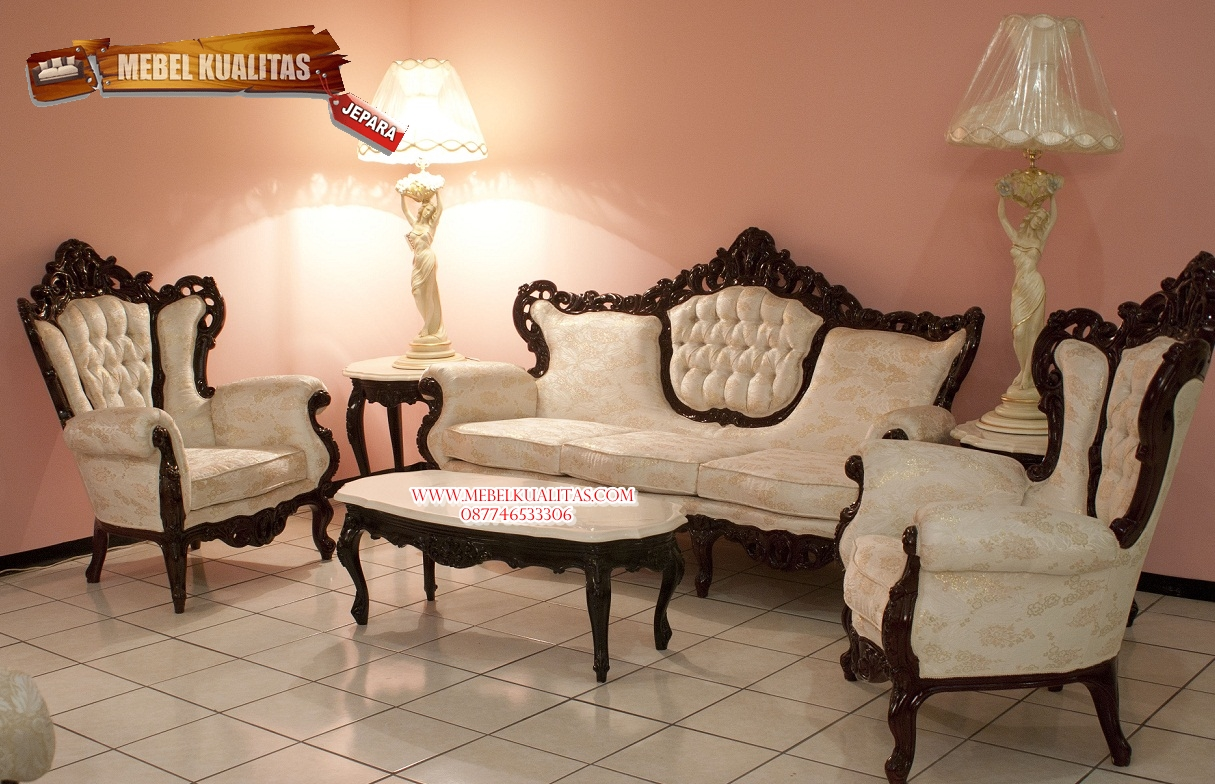Carving Chair: (860, 317, 1179, 759), (48, 255, 332, 602)
Carving Table: (326, 468, 713, 659)
